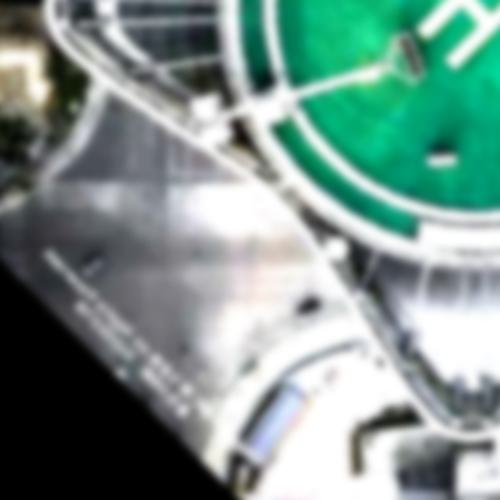Apron: (259, 2, 500, 220)
